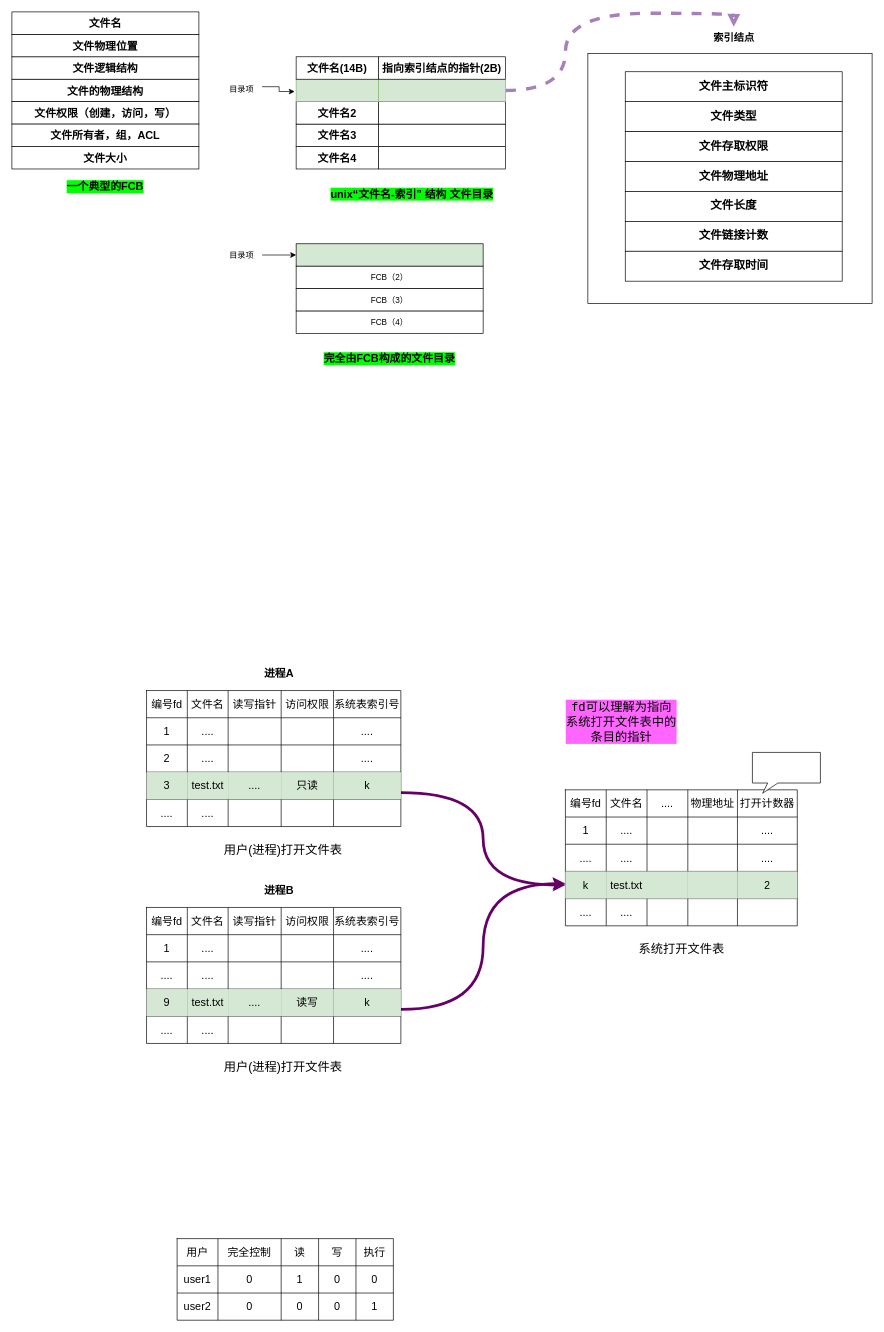
This 884x1332 diagram has some shape labels left out. Each missing label, with the centre of its shape:
"0xbababab" goes at [442,90].
"FCB（1）" goes at [389,254].
"文件名1" goes at [336,90].
"记录此时有多少进程打开了此文件" goes at [786,772].
